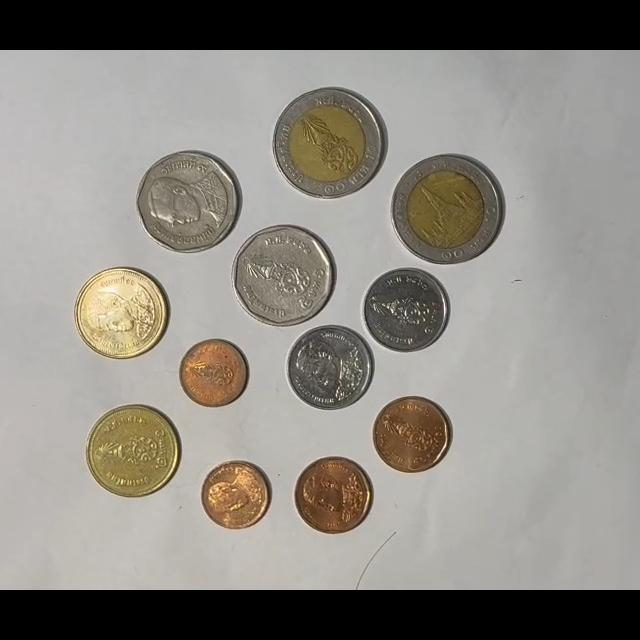1-baht: (362, 267, 450, 354), (286, 324, 373, 411)
10-baht: (273, 87, 387, 200), (391, 154, 503, 265)
2-baht: (86, 405, 181, 498), (75, 267, 168, 360)
25-satang: (200, 460, 272, 531), (179, 338, 249, 408)
5-baht: (136, 150, 241, 254), (232, 224, 334, 328)
50-satang: (294, 457, 373, 535), (372, 396, 451, 473)
